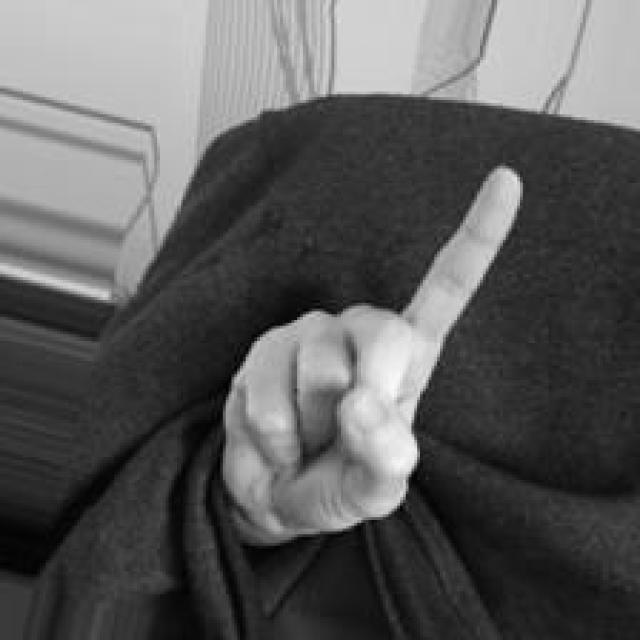I: (226, 161, 529, 549)
